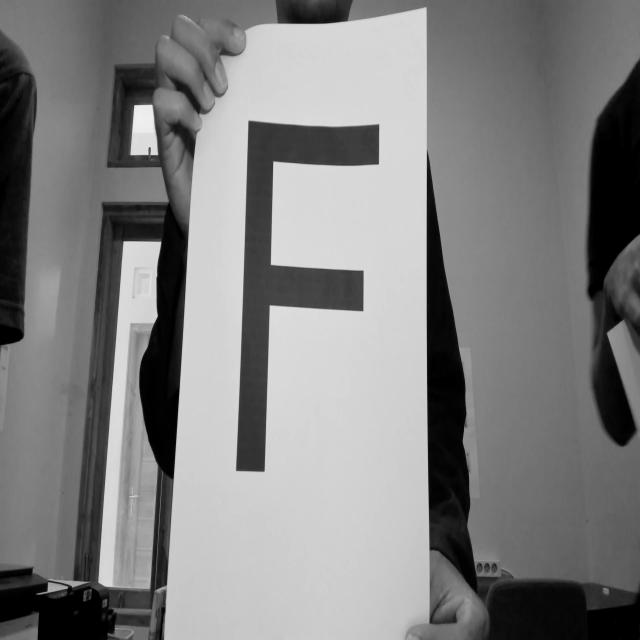f: (232, 99, 395, 494)
